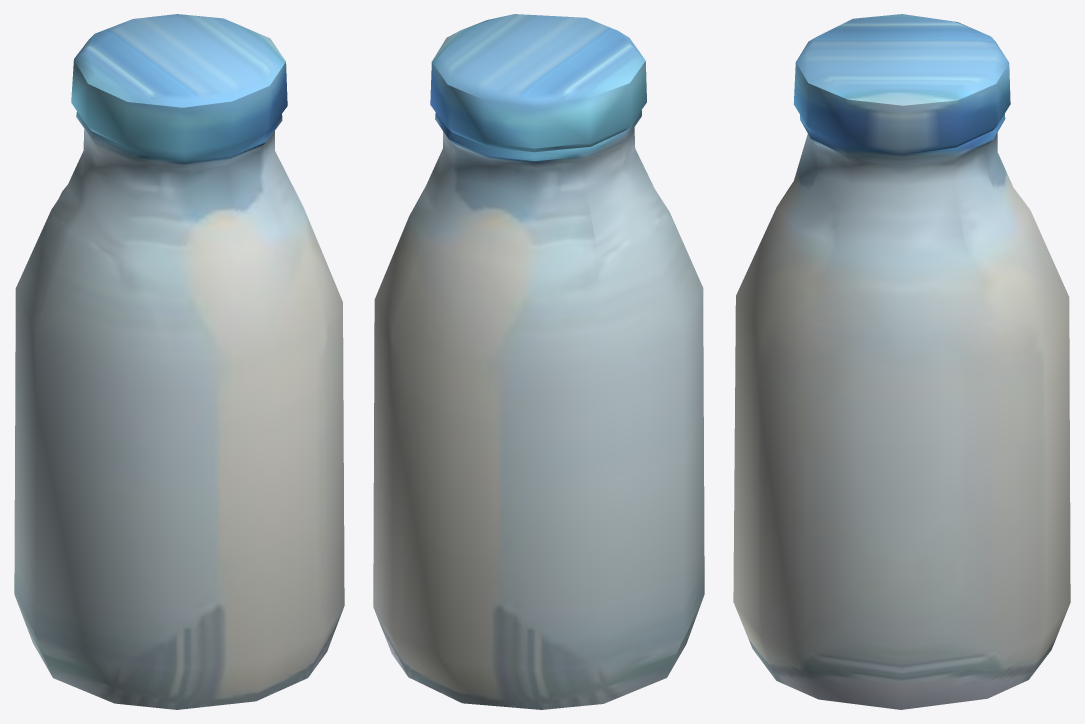
The picture shows the model from 3 angles, left to right: view 1: azimuth 30°, elevation 25°; view 2: azimuth 150°, elevation 25°; view 3: azimuth 270°, elevation 25°; orthographic projection.
Visible parts, largest first — view 1: milk.001; view 2: milk.001; view 3: milk.001.
Part boxes in pixels (x1=…): milk.001: x1=14, y1=14, x2=344, y2=709; milk.001: x1=373, y1=14, x2=704, y2=709; milk.001: x1=733, y1=14, x2=1070, y2=709.
Bounding box in the file's own units: 0.1265 × 0.2495 × 0.128.
1 material, 1 textured.
